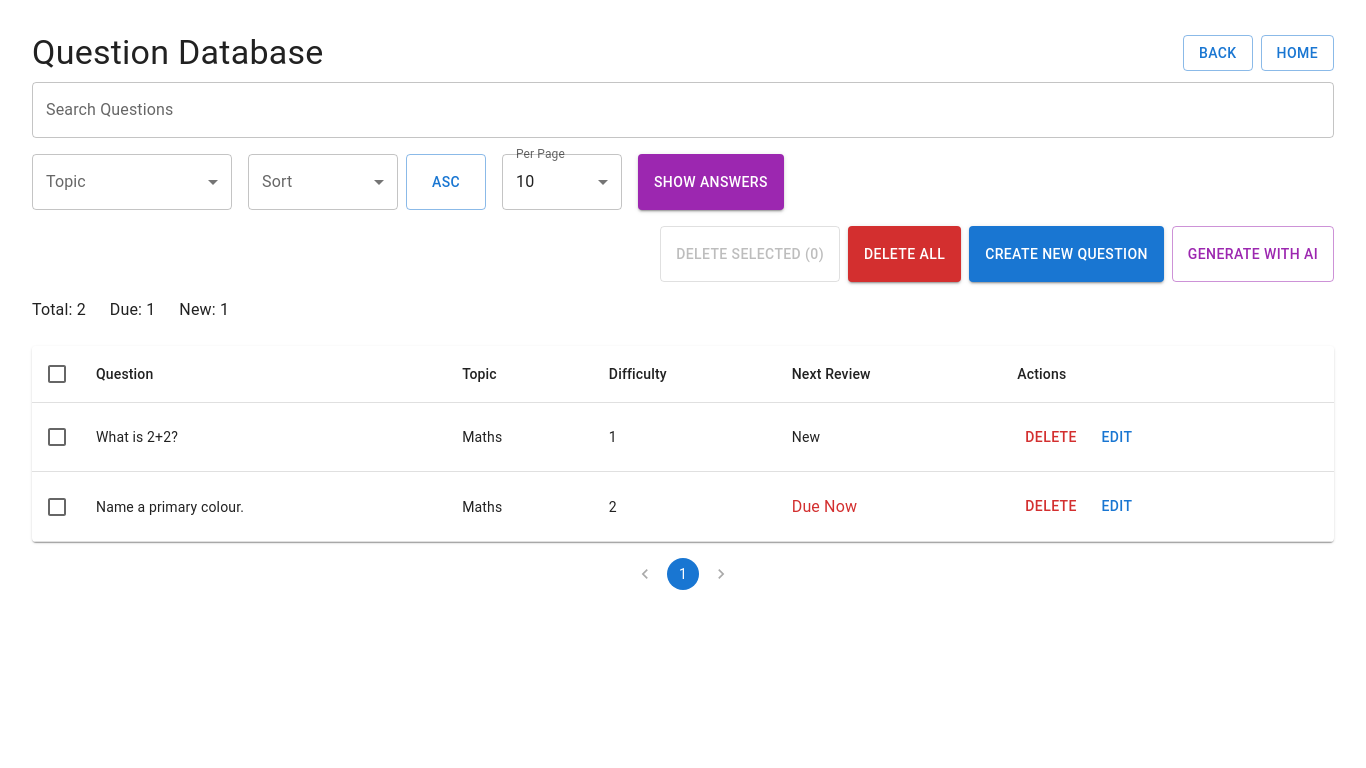
Scenario: Questions page › filters questions by search text
The width and height of the screenshot is (1366, 768).
Expected: the text "What is 2+2?" is shown, [96, 429, 178, 445]
Type "primary" into the field labelled "Search Questions" at x=683, y=110, box [32, 82, 1334, 138]
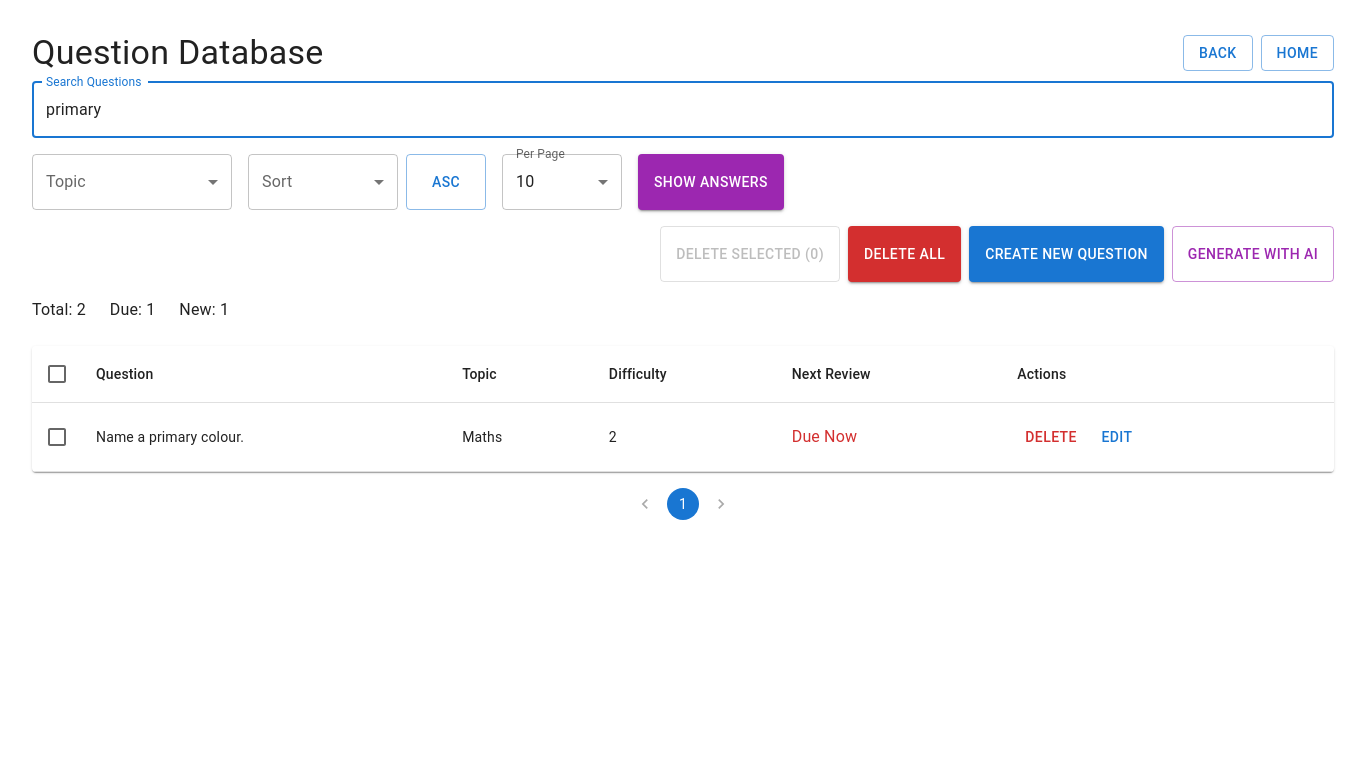
Expected: the text "Name a primary colour." is shown, [96, 429, 244, 445]
Now the text "What is 2+2?" is gone
